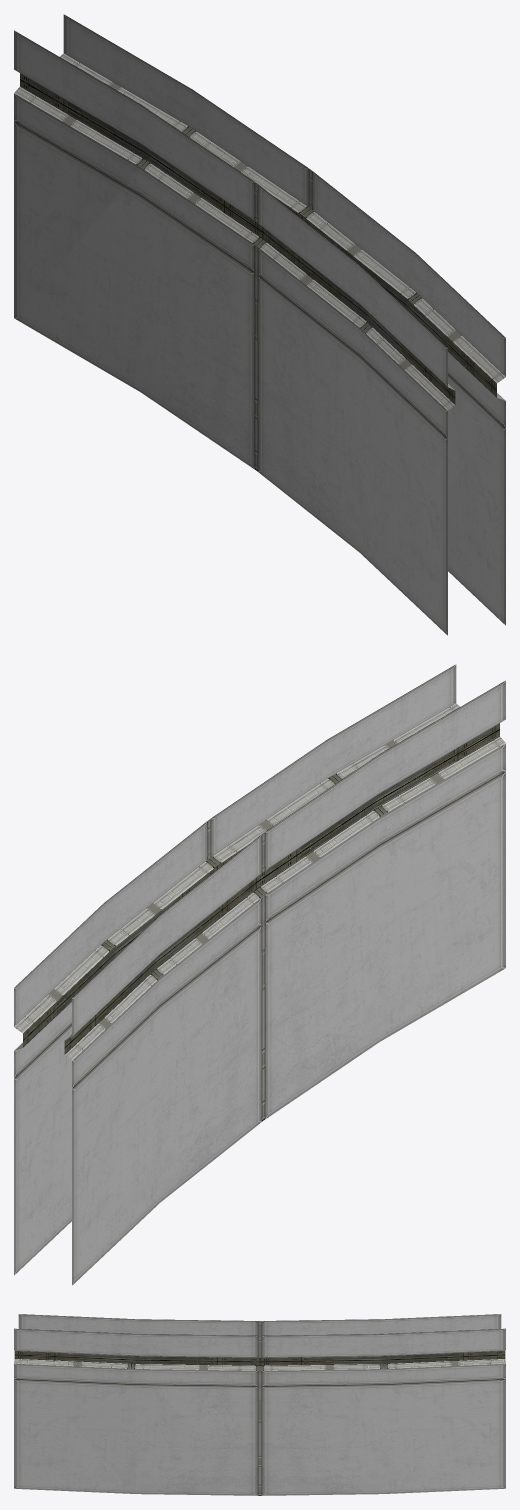
The model's file is Club_Wall_01.FBX.
3 views of the same model, one above another, from view 1: azimuth 30°, elevation 25°; view 2: azimuth 150°, elevation 25°; view 3: azimuth 270°, elevation 25° (orthographic). The views are drawn at different scales.
Visible parts, largest first — view 1: Club_Wall_01; view 2: Club_Wall_01; view 3: Club_Wall_01.
Boxes of the visible parts, left/top/right/bottom form: Club_Wall_01: left=14, top=14, right=505, bottom=635; Club_Wall_01: left=14, top=664, right=505, bottom=1285; Club_Wall_01: left=14, top=1314, right=505, bottom=1495.
Bounding box in the file's own units: 1.16 × 4 × 11.14.
